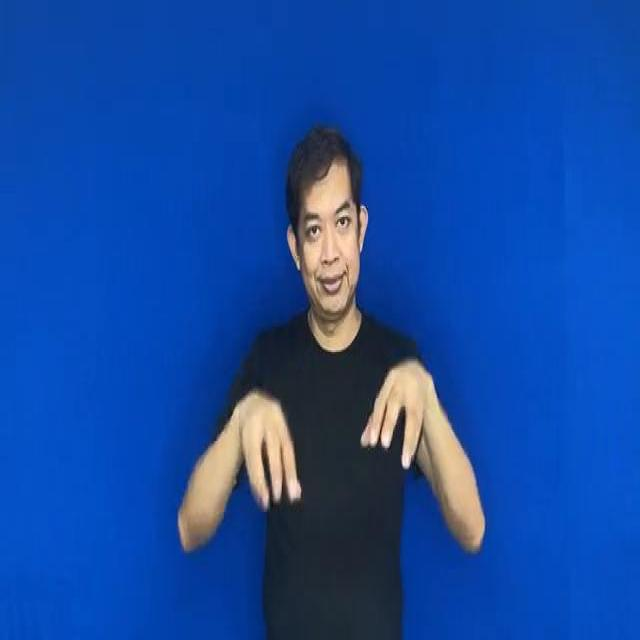egg: (212, 356, 452, 517)
